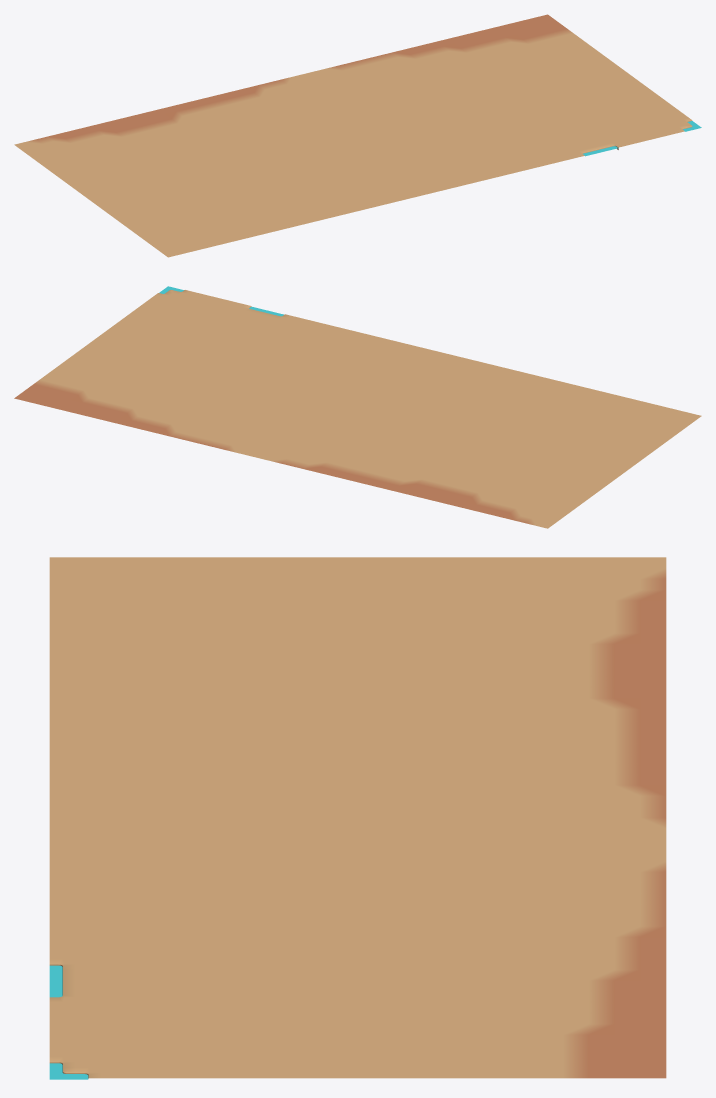
File: Terrain Mesh Optimized.glb
The picture shows the model from 3 angles, top to bottom: view 1: azimuth 30°, elevation 25°; view 2: azimuth 150°, elevation 25°; view 3: azimuth 270°, elevation 25°; orthographic projection. The views are drawn at different scales.
Parts seen in each view (by area): view 1: square_rock2; view 2: square_rock2; view 3: square_rock2.
Part boxes in pixels (<box>): square_rock2: <box>14,14,701,257</box>; square_rock2: <box>14,286,701,528</box>; square_rock2: <box>49,557,666,1079</box>.
Bounding box in the file's own units: 96 × 0.4588 × 48.
Materials: 4 (1 with a texture image).
